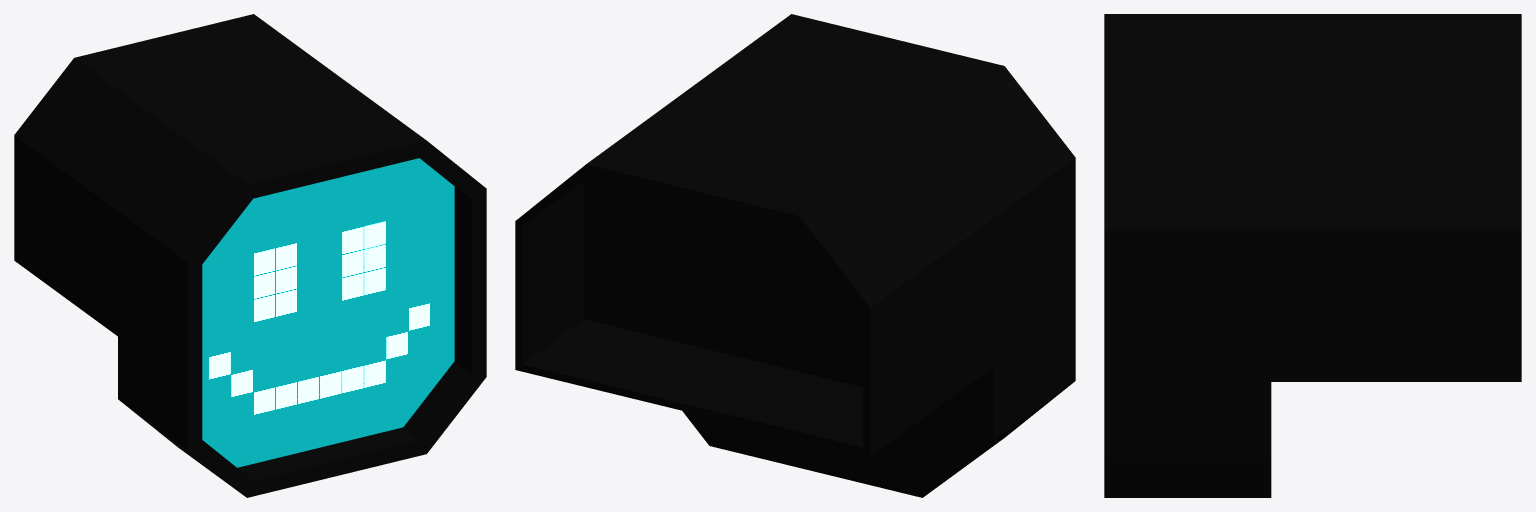
The model's file is TrooperBody.fbx.
3 renders of one model, left to right at view 1: azimuth 30°, elevation 25°; view 2: azimuth 150°, elevation 25°; view 3: azimuth 270°, elevation 25°, orthographic. The views are drawn at different scales.
Parts seen in each view (by area): view 1: Body, Face; view 2: Body; view 3: Body.
Boxes of the visible parts, left/top/right/bottom form: Body: left=14, top=14, right=486, bottom=497; Face: left=202, top=158, right=454, bottom=467; Body: left=515, top=14, right=1075, bottom=497; Body: left=1104, top=14, right=1521, bottom=497.
Bounding box in the file's own units: 127 × 127 × 127.
